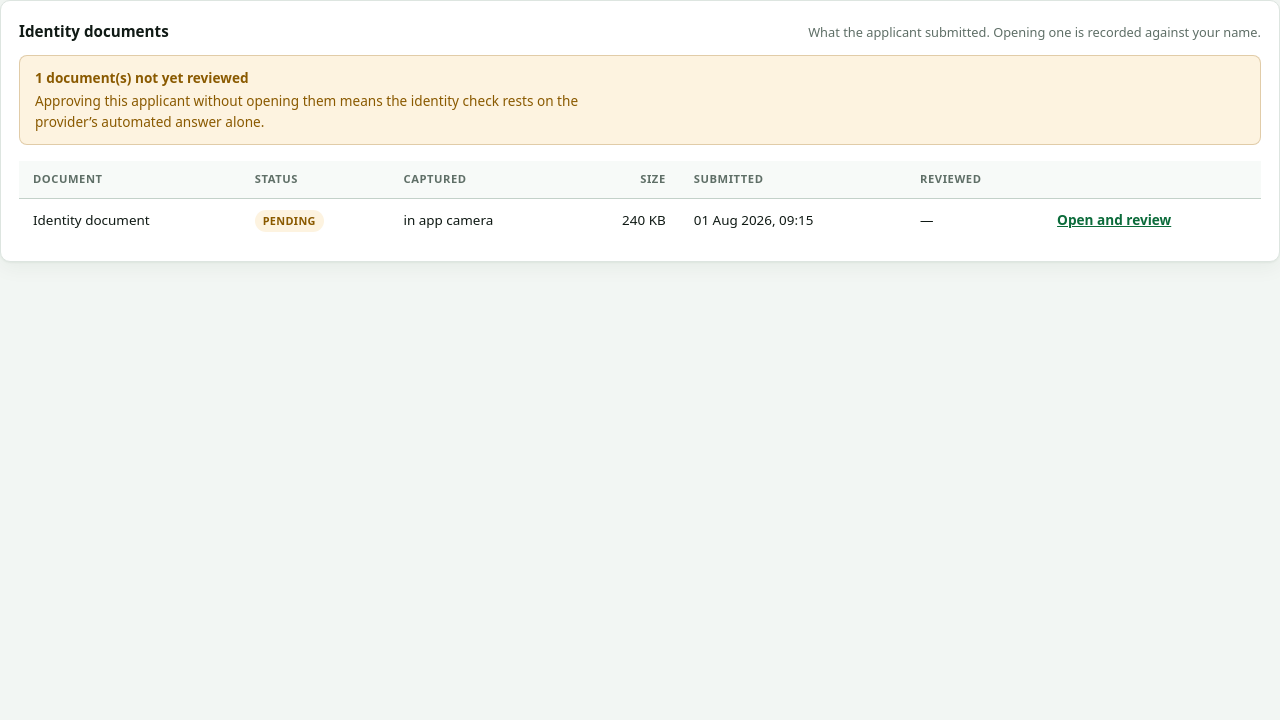
Test: opening one document › shows the checksum, so a reviewer can say which file they looked at
Click the button "Open and review": (1114,220) [1057, 210, 1171, 230]
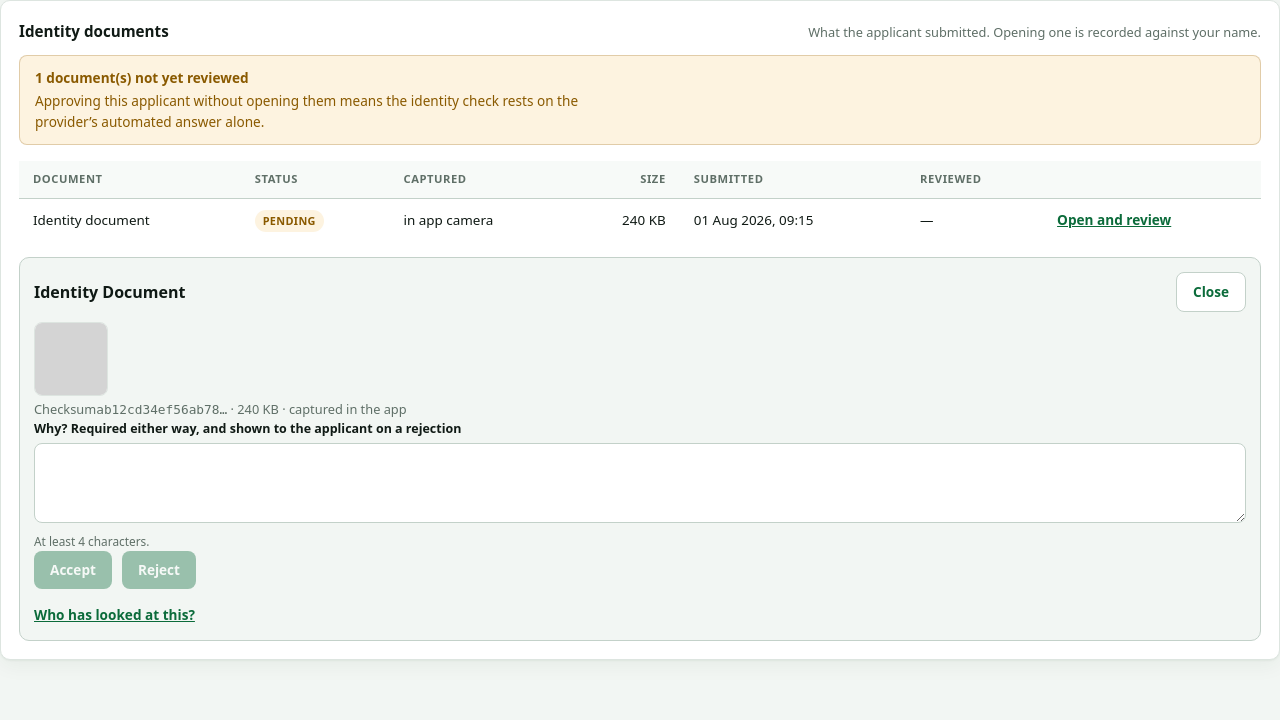
Expected: the text "ab12cd34ef56ab78…" is shown, [96, 402, 227, 418]
